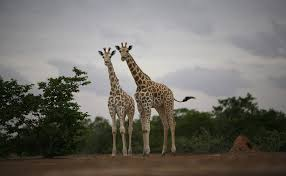Jirafa: (85, 36, 119, 77), (113, 32, 140, 68)
